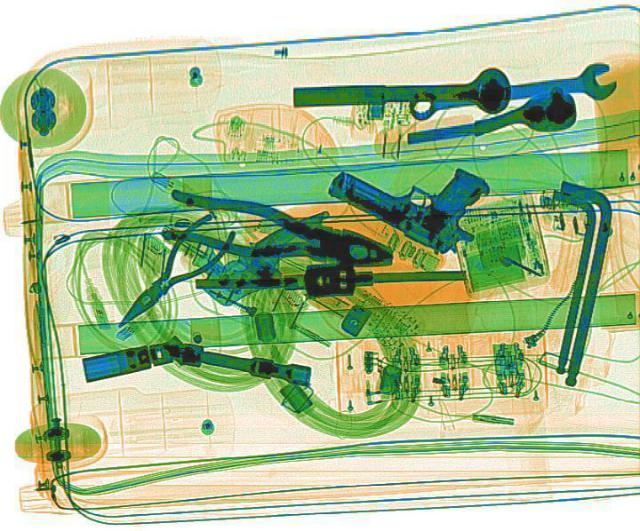Gun: (316, 123, 512, 260)
Pliers: (153, 183, 401, 286), (99, 210, 244, 339)
Wrench: (402, 59, 620, 127)
